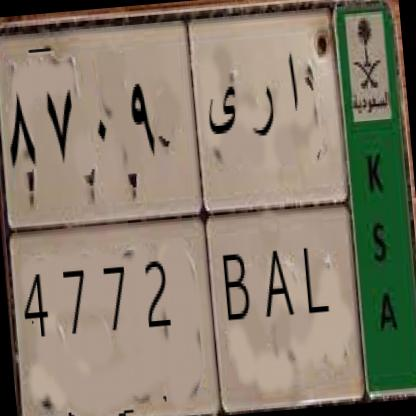english: (5, 190, 369, 416)
